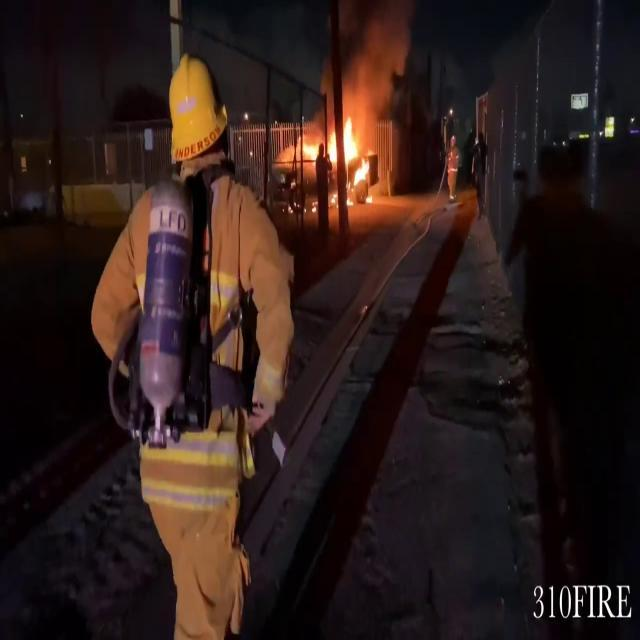Fire: (294, 104, 374, 210)
Smoke: (328, 0, 416, 112)
